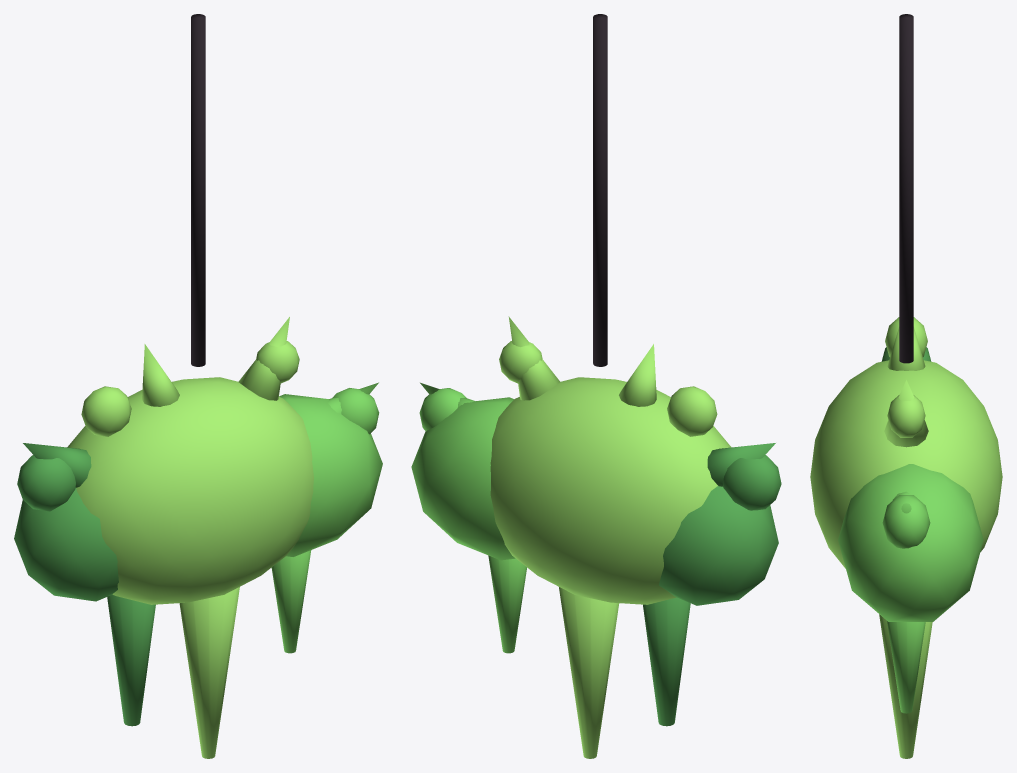
The model's file is dangle_goop.glb.
The picture shows the model from 3 angles, left to right: view 1: azimuth 30°, elevation 25°; view 2: azimuth 150°, elevation 25°; view 3: azimuth 270°, elevation 25°; orthographic projection.
Visible parts, largest first — view 1: Goop Main Splash, Goop Right Splash, Goop Left Splash, Goop Drip Center, Mirror Cord, Goop Drip Left, Goop Drip Right, Goop Burst Droplet 0, Goop Burst Droplet 2, Goop Splash Spike 1, Goop Splash Spike 2, Goop Burst Droplet 1 (+2 smaller); view 2: Goop Main Splash, Goop Right Splash, Goop Left Splash, Goop Drip Center, Mirror Cord, Goop Drip Left, Goop Burst Droplet 0, Goop Drip Right, Goop Burst Droplet 2, Goop Splash Spike 1, Goop Splash Spike 2, Goop Splash Spike 0 (+2 smaller); view 3: Goop Main Splash, Goop Right Splash, Mirror Cord, Goop Drip Center, Goop Drip Right, Goop Burst Droplet 1, Goop Burst Droplet 3, Goop Splash Spike 1, Goop Splash Spike 2, Goop Burst Droplet 2.
Part boxes in pixels (x1=…): Goop Main Splash: x1=67, y1=377, x2=313, y2=604; Goop Right Splash: x1=279, y1=394, x2=382, y2=556; Goop Left Splash: x1=14, y1=488, x2=118, y2=601; Goop Drip Center: x1=179, y1=587, x2=239, y2=758; Mirror Cord: x1=191, y1=14, x2=205, y2=366; Goop Drip Left: x1=107, y1=594, x2=155, y2=726; Goop Drip Right: x1=271, y1=550, x2=311, y2=653; Goop Burst Droplet 0: x1=17, y1=455, x2=75, y2=511; Goop Burst Droplet 2: x1=81, y1=386, x2=131, y2=436; Goop Splash Spike 1: x1=142, y1=344, x2=179, y2=406; Goop Splash Spike 2: x1=238, y1=317, x2=289, y2=400; Goop Burst Droplet 1: x1=332, y1=388, x2=379, y2=434; Goop Main Splash: x1=490, y1=377, x2=731, y2=604; Goop Right Splash: x1=411, y1=397, x2=515, y2=560; Goop Left Splash: x1=659, y1=486, x2=778, y2=605; Goop Drip Center: x1=559, y1=587, x2=619, y2=758; Mirror Cord: x1=593, y1=14, x2=607, y2=366; Goop Drip Left: x1=643, y1=597, x2=690, y2=726; Goop Burst Droplet 0: x1=722, y1=455, x2=781, y2=510; Goop Drip Right: x1=488, y1=555, x2=526, y2=653; Goop Burst Droplet 2: x1=667, y1=386, x2=717, y2=436; Goop Splash Spike 1: x1=619, y1=344, x2=656, y2=406; Goop Splash Spike 2: x1=508, y1=316, x2=559, y2=400; Goop Splash Spike 0: x1=707, y1=443, x2=775, y2=486; Goop Main Splash: x1=810, y1=360, x2=1002, y2=568; Goop Right Splash: x1=838, y1=464, x2=983, y2=621; Mirror Cord: x1=899, y1=14, x2=913, y2=363; Goop Drip Center: x1=879, y1=614, x2=932, y2=758; Goop Drip Right: x1=887, y1=621, x2=925, y2=713; Goop Burst Droplet 1: x1=882, y1=495, x2=930, y2=548; Goop Burst Droplet 3: x1=887, y1=395, x2=925, y2=437; Goop Splash Spike 1: x1=887, y1=327, x2=925, y2=370; Goop Splash Spike 2: x1=884, y1=380, x2=928, y2=447; Goop Burst Droplet 2: x1=885, y1=317, x2=927, y2=356.
Bounding box in the file's own units: 2.81 × 5.56 × 1.32.
